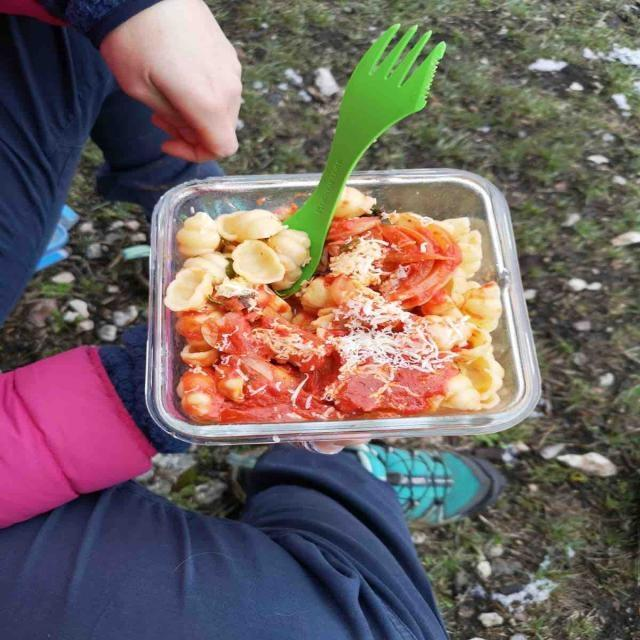pasta: (171, 195, 514, 413)
tomato-sauce: (190, 211, 480, 408)
